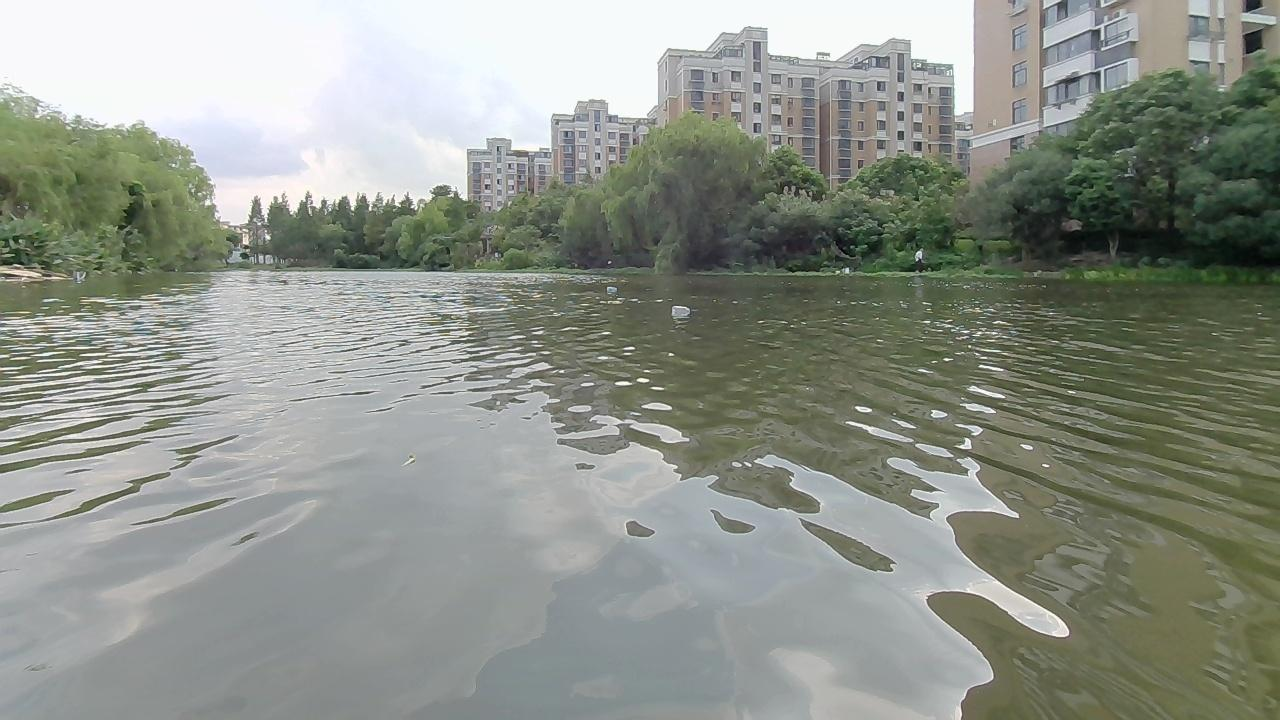bottle: (666, 303, 696, 317), (604, 282, 618, 296)
